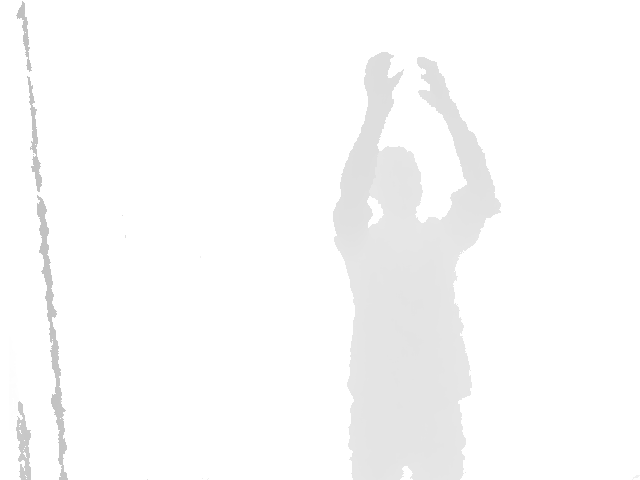hand: (364, 50, 405, 115), (415, 57, 452, 113)
head: (368, 146, 424, 218)
person: (332, 50, 503, 480)
